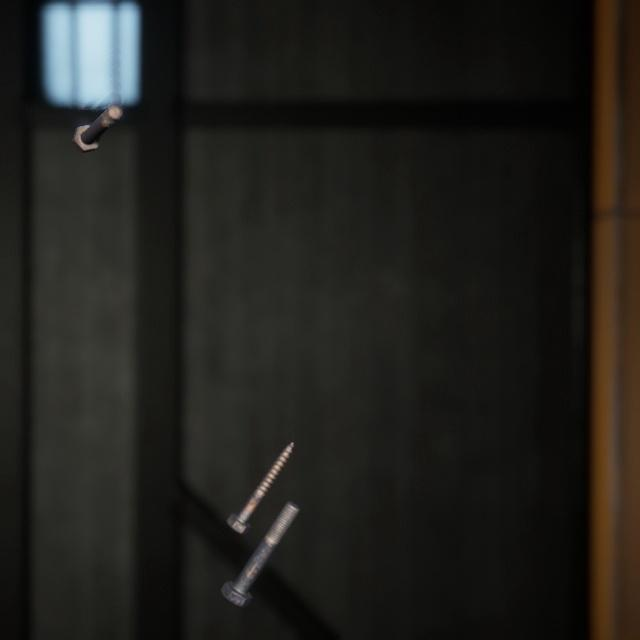bolt: (216, 473, 304, 588), (222, 415, 299, 516), (68, 87, 126, 144)
